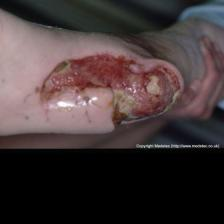Wound: (47, 40, 183, 128)
